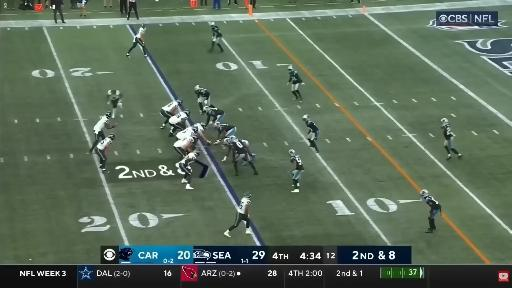Helmet: (419, 190, 431, 198), (108, 132, 117, 141), (440, 117, 448, 126), (288, 65, 297, 73), (244, 192, 251, 200), (176, 98, 183, 105), (195, 148, 202, 155), (201, 121, 207, 129), (215, 121, 221, 129), (106, 111, 112, 118), (203, 106, 209, 113), (224, 138, 230, 145), (193, 125, 198, 133), (303, 115, 309, 121), (229, 136, 236, 141), (193, 135, 197, 143), (289, 150, 295, 155), (184, 110, 190, 115), (141, 24, 147, 29), (195, 85, 200, 90), (112, 90, 117, 95), (210, 22, 214, 27)
Jersey: (424, 196, 441, 213), (207, 108, 224, 123), (230, 139, 247, 154), (174, 137, 194, 149), (94, 116, 108, 133), (238, 197, 251, 215), (177, 127, 195, 139), (180, 153, 196, 166), (170, 112, 187, 124), (97, 138, 112, 150), (291, 155, 303, 170), (443, 123, 454, 139), (162, 102, 179, 112), (187, 123, 204, 133), (289, 71, 302, 84), (306, 120, 318, 134), (195, 88, 210, 99), (134, 27, 145, 41), (108, 90, 122, 101), (218, 124, 234, 133), (212, 26, 222, 37)
Player: (224, 192, 253, 237), (228, 138, 258, 175), (90, 111, 115, 153), (441, 118, 462, 160), (178, 149, 200, 189), (421, 190, 441, 233), (95, 134, 115, 173), (176, 123, 211, 145), (126, 24, 147, 57), (223, 136, 249, 161), (160, 99, 182, 128), (303, 115, 319, 152), (289, 150, 303, 192), (288, 66, 304, 102), (169, 110, 190, 137), (174, 135, 197, 157), (214, 122, 236, 144), (195, 85, 210, 114), (204, 106, 225, 126), (209, 22, 223, 52), (107, 90, 122, 118), (194, 123, 211, 145), (176, 126, 198, 139)
